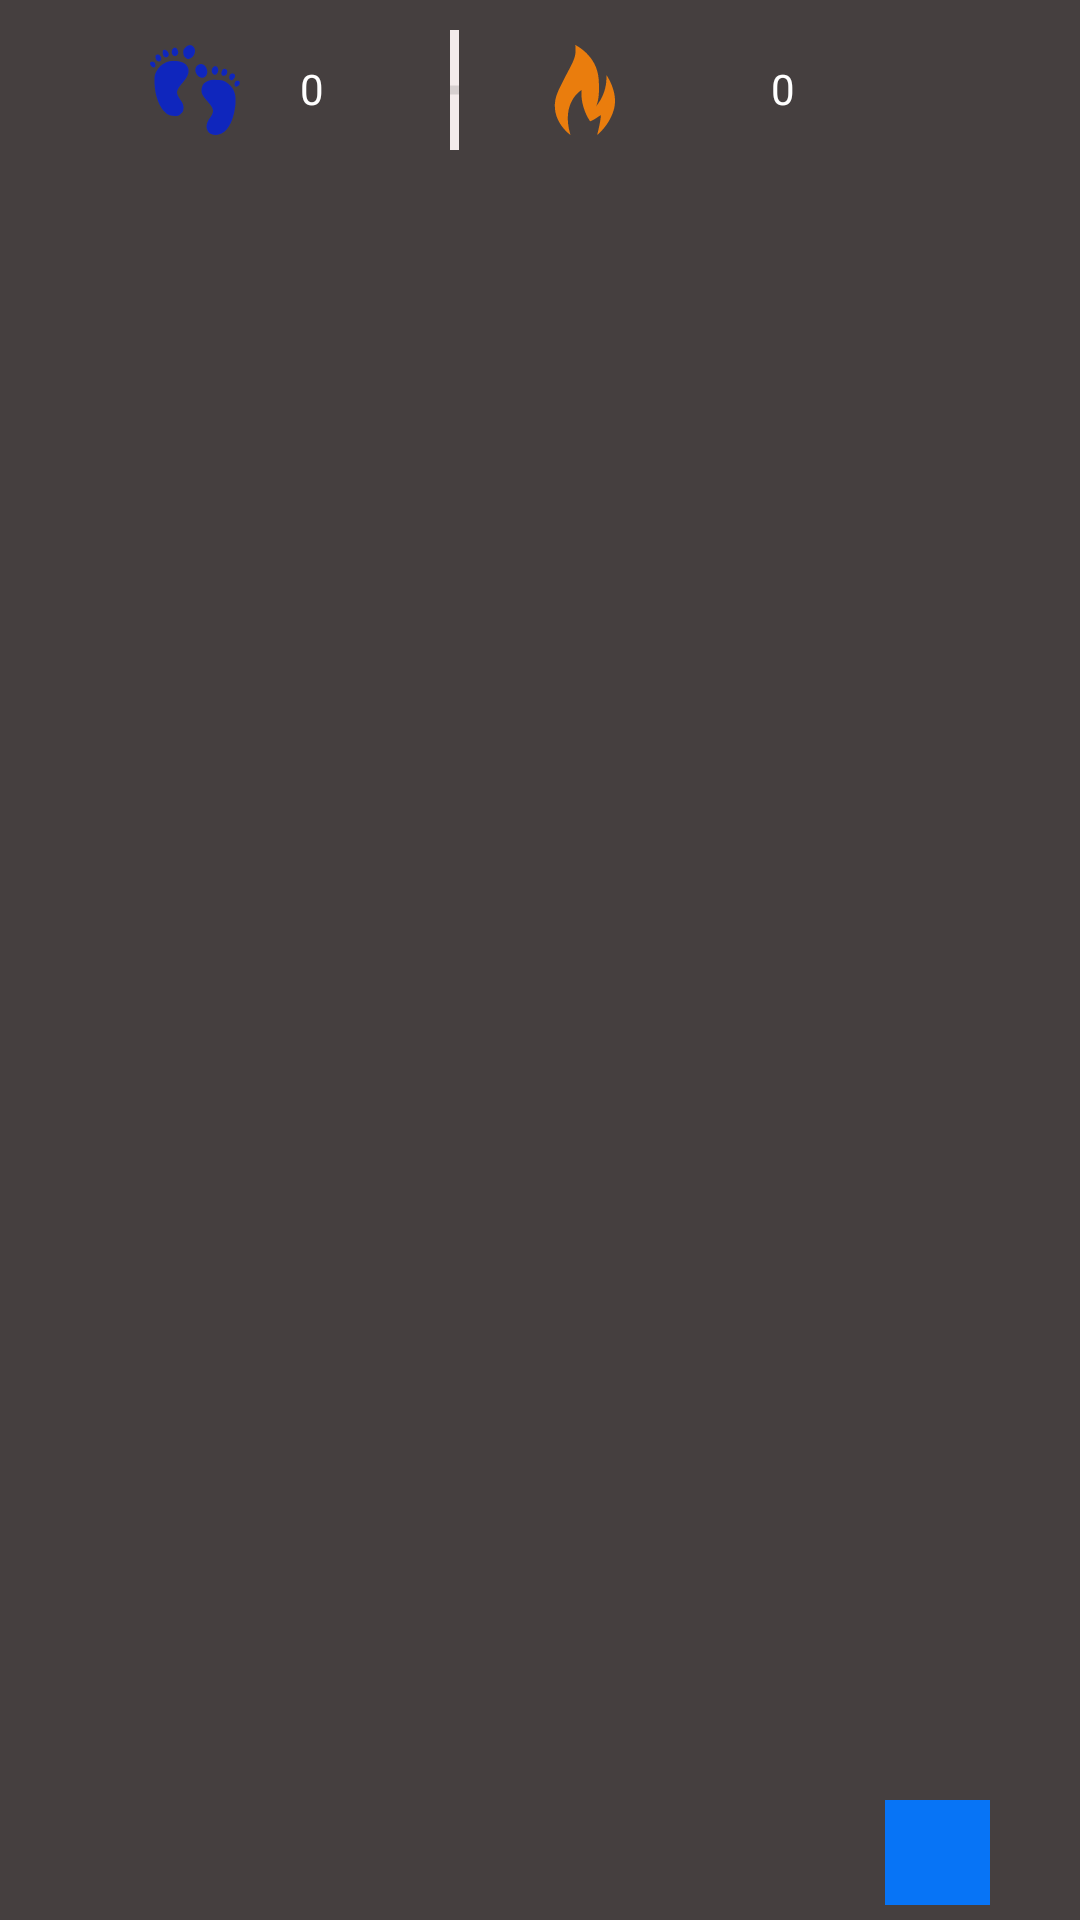

Icons on this 1080 × 1920 Android screen, each with the point to tap as point (x, y):
feet: point (195, 90)
fire: point (584, 90)
